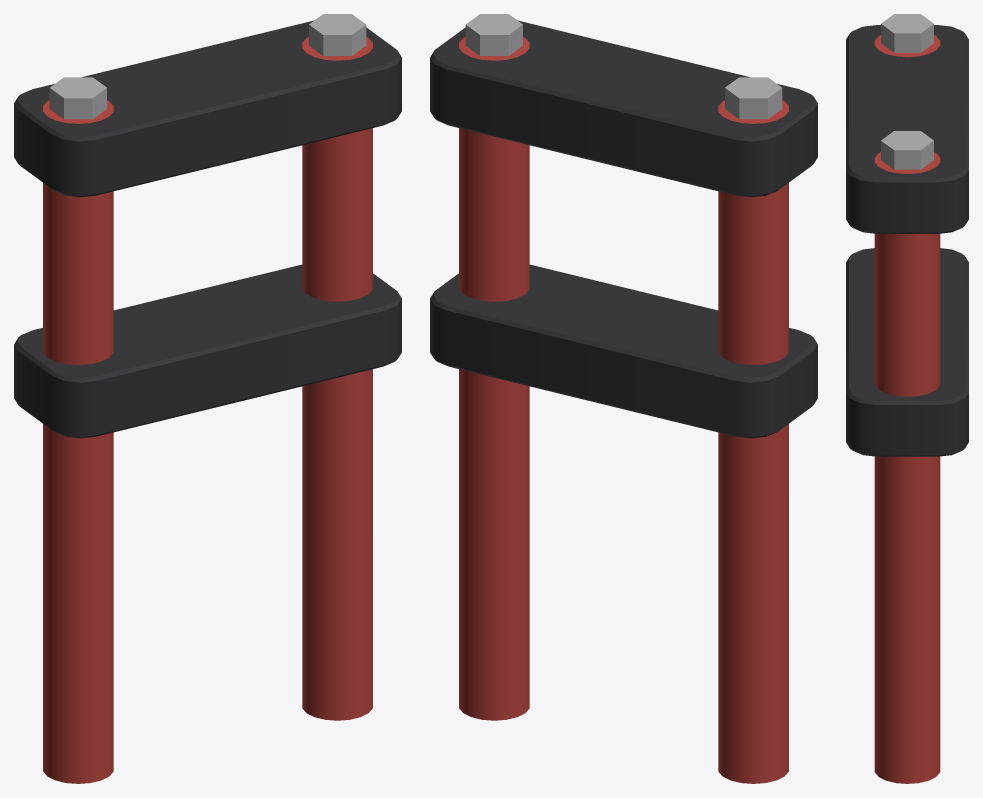
The model's file is classic_gaiter_fork_upper.glb.
3 views of the same model, side by side, from view 1: azimuth 30°, elevation 25°; view 2: azimuth 150°, elevation 25°; view 3: azimuth 270°, elevation 25° (orthographic). The views are drawn at different scales.
Parts seen in each view (by area): view 1: lod0; view 2: lod0; view 3: lod0.
Part boxes in pixels (x1=…): lod0: x1=14, y1=14, x2=401, y2=783; lod0: x1=430, y1=14, x2=817, y2=783; lod0: x1=846, y1=14, x2=968, y2=783.
Size of what is drawn, in the model's own units: 0.24 by 0.452 by 0.08.
